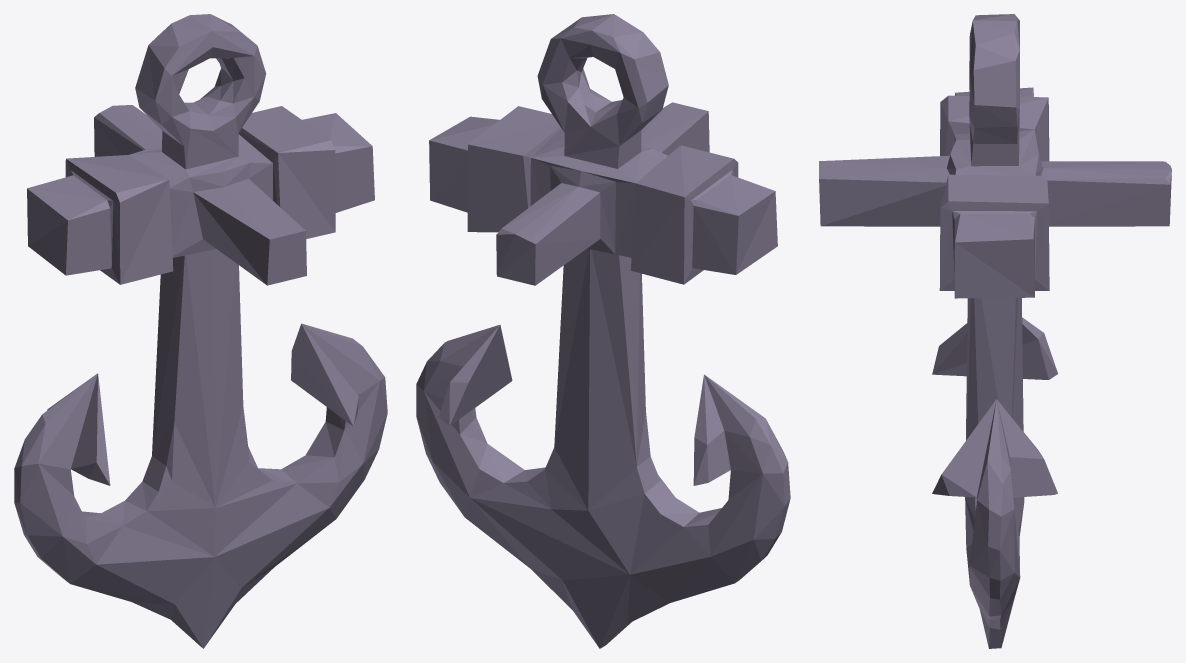
File: Anchor_01.fbx
3 views of the same model, side by side, from view 1: azimuth 30°, elevation 25°; view 2: azimuth 150°, elevation 25°; view 3: azimuth 270°, elevation 25° (orthographic).
Parts seen in each view (by area): view 1: Anchor_01; view 2: Anchor_01; view 3: Anchor_01.
Part boxes in pixels (left/top/right/bottom): Anchor_01: left=14, top=14, right=387, bottom=648; Anchor_01: left=416, top=14, right=790, bottom=648; Anchor_01: left=819, top=14, right=1171, bottom=648.
Size of the model in its own units: 381 by 617 by 314.
